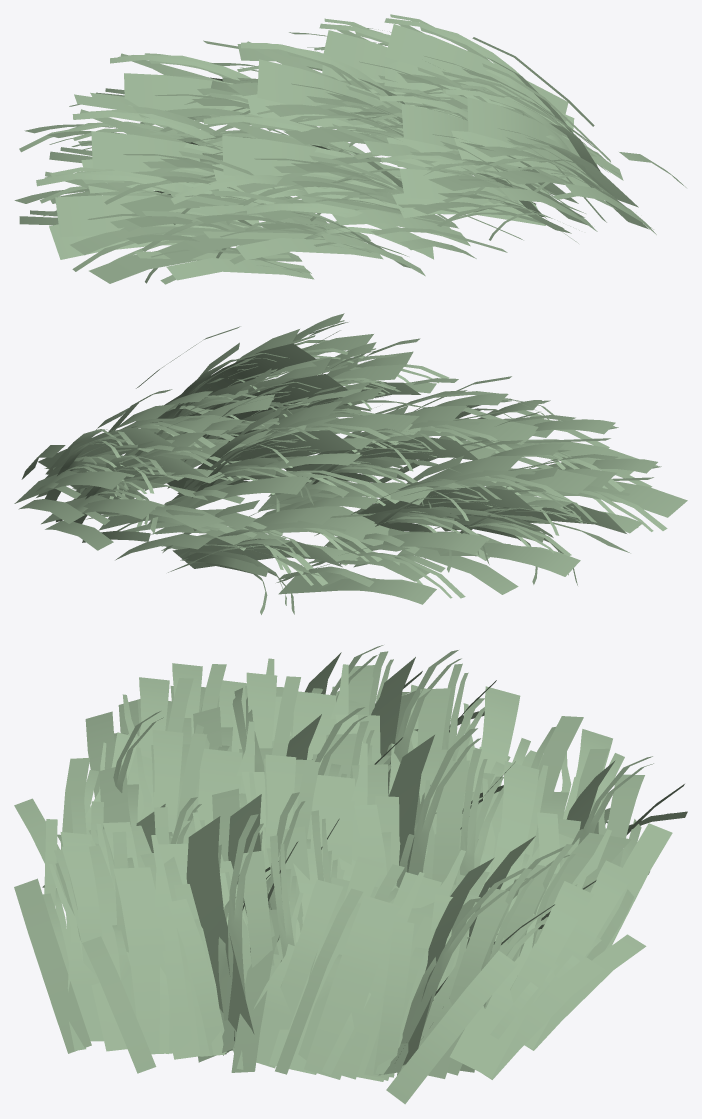
Rendered from SM_ocean_eelGrass_05.fbx.
3 renders of one model, top to bottom at view 1: azimuth 30°, elevation 25°; view 2: azimuth 150°, elevation 25°; view 3: azimuth 270°, elevation 25°, orthographic. The views are drawn at different scales.
Parts seen in each view (by area): view 1: SM_ocean_eelGrass_05_LOD0; view 2: SM_ocean_eelGrass_05_LOD0; view 3: SM_ocean_eelGrass_05_LOD0.
Boxes of the visible parts, x1,y1,x2,y2 form: SM_ocean_eelGrass_05_LOD0: (14,14,686,284); SM_ocean_eelGrass_05_LOD0: (14,313,687,614); SM_ocean_eelGrass_05_LOD0: (14,645,687,1104).
Size of what is drawn, in the model's own units: 890 by 709 by 207.
